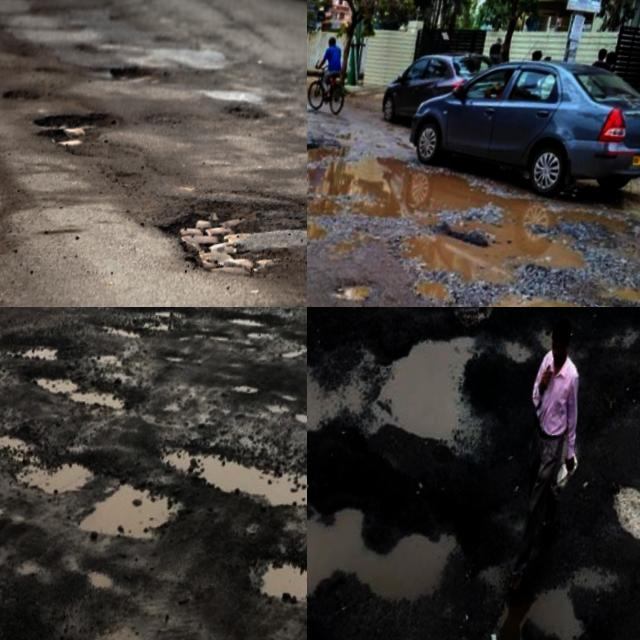Potholes: (307, 307, 531, 514), (307, 444, 502, 640), (307, 136, 518, 307), (0, 38, 165, 205), (473, 163, 640, 307), (360, 225, 640, 307), (156, 169, 307, 307), (51, 437, 187, 586), (156, 416, 307, 545), (483, 541, 614, 640), (218, 503, 307, 640), (207, 307, 307, 398), (97, 307, 219, 377), (524, 307, 640, 377), (210, 75, 285, 168), (308, 258, 386, 307)
